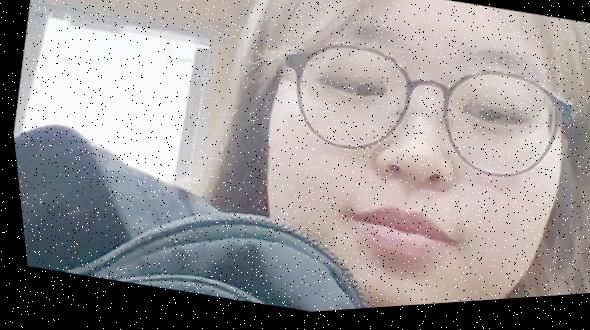eye: (475, 112, 502, 137), (349, 88, 374, 112)
iris: (321, 78, 383, 107), (459, 107, 517, 137)
